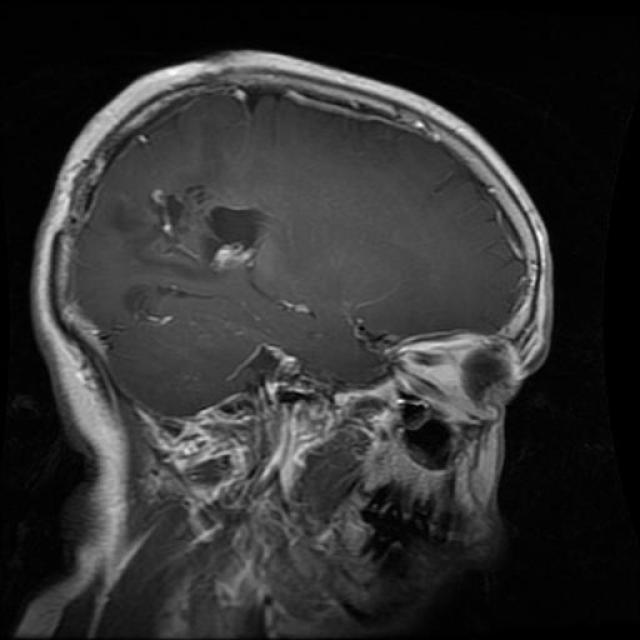glioma: (134, 188, 292, 294)
